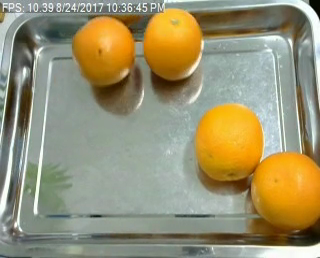Orange: (193, 102, 265, 181), (251, 151, 320, 231), (70, 15, 135, 86), (142, 8, 204, 80)
